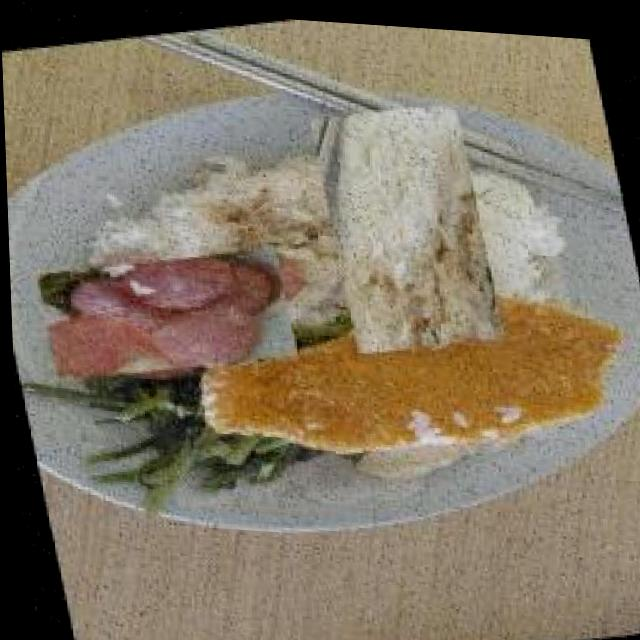chinese_sausage: (32, 231, 296, 395)
rice: (291, 105, 520, 340)
water_spinach: (96, 367, 237, 495)
